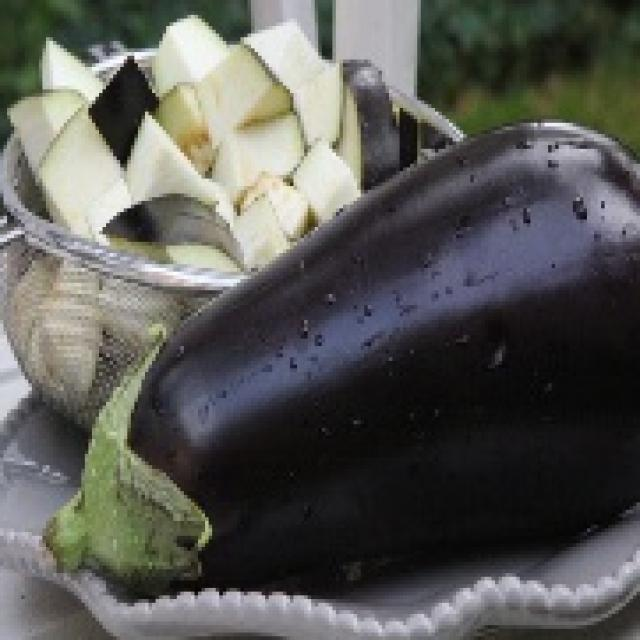eggplant: (92, 112, 640, 602)
